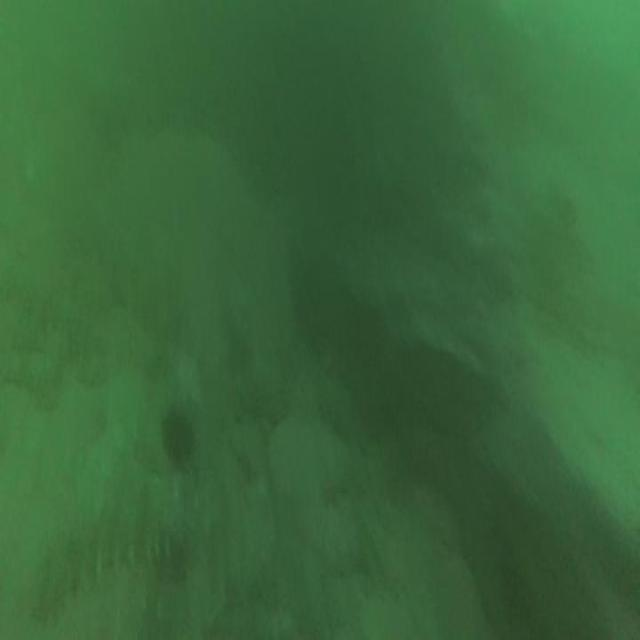echinus: (157, 392, 201, 476)
holothurian: (26, 488, 189, 612)
